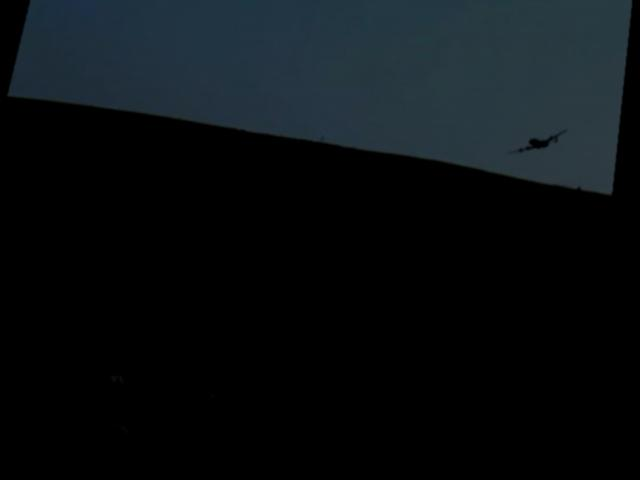iha: (513, 129, 575, 179)
